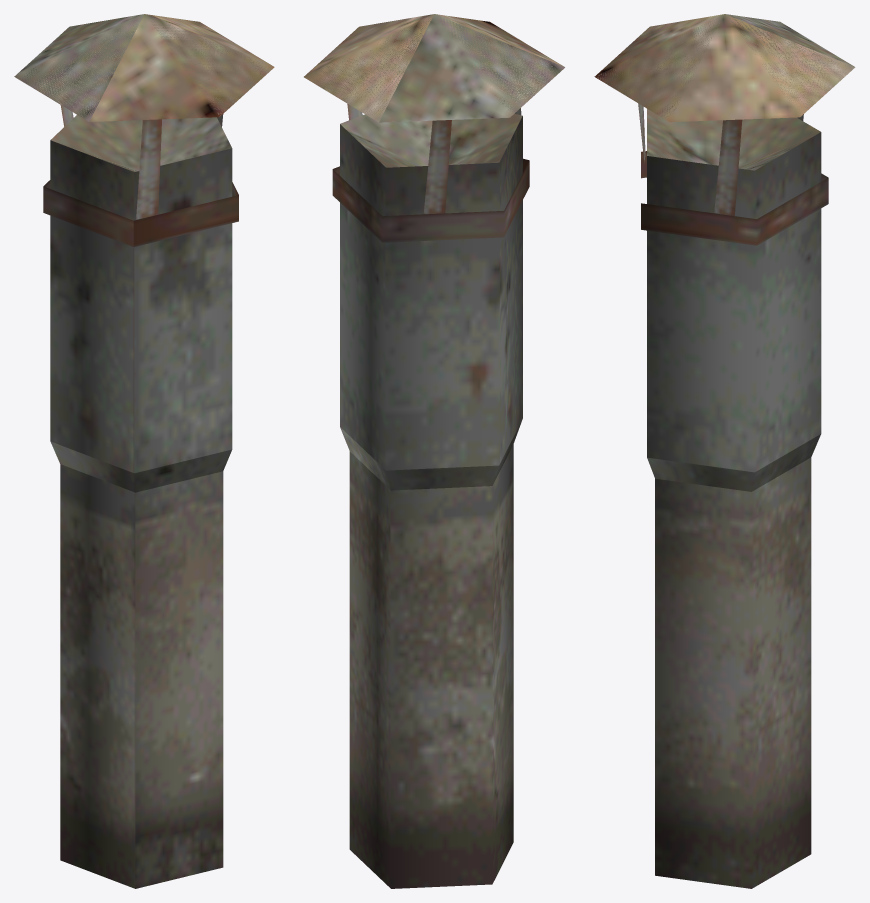
Rendered from Pipe_out1.fbx.
The picture shows the model from 3 angles, left to right: view 1: azimuth 30°, elevation 25°; view 2: azimuth 150°, elevation 25°; view 3: azimuth 270°, elevation 25°; orthographic projection.
Visible parts, largest first — view 1: Pipe_out1; view 2: Pipe_out1; view 3: Pipe_out1.
Part boxes in pixels (x1,y1,x2,y2): Pipe_out1: (14,14,274,888); Pipe_out1: (304,14,564,888); Pipe_out1: (594,14,855,888).
Size of the model in its own units: 60.04 by 234 by 65.99.
